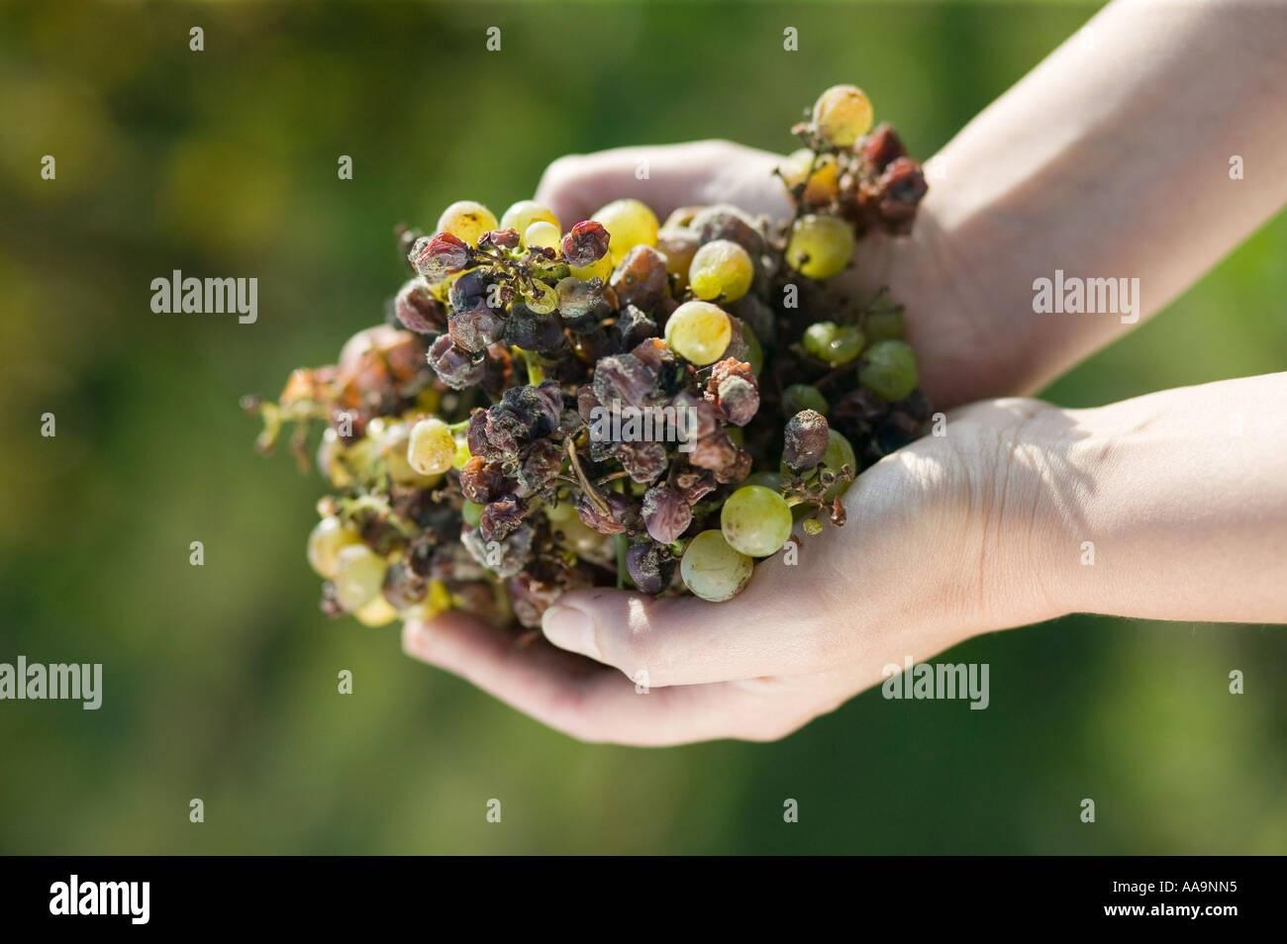Grape Rotten: (256, 84, 935, 638)
